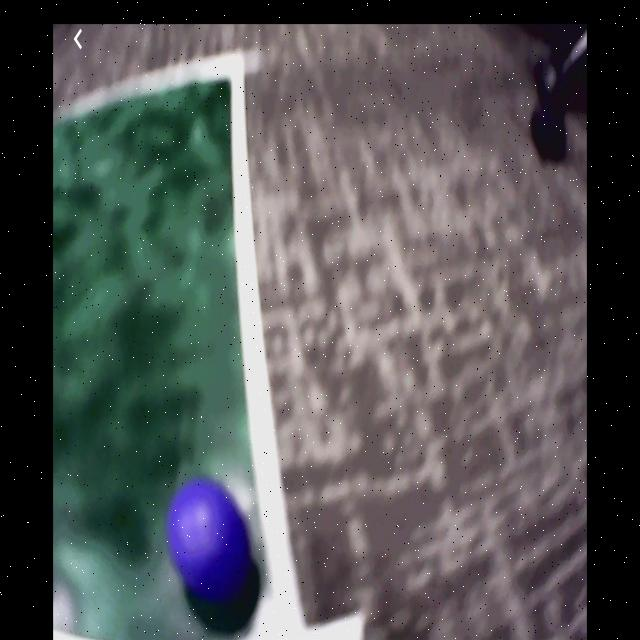ball: (170, 479, 250, 601)
